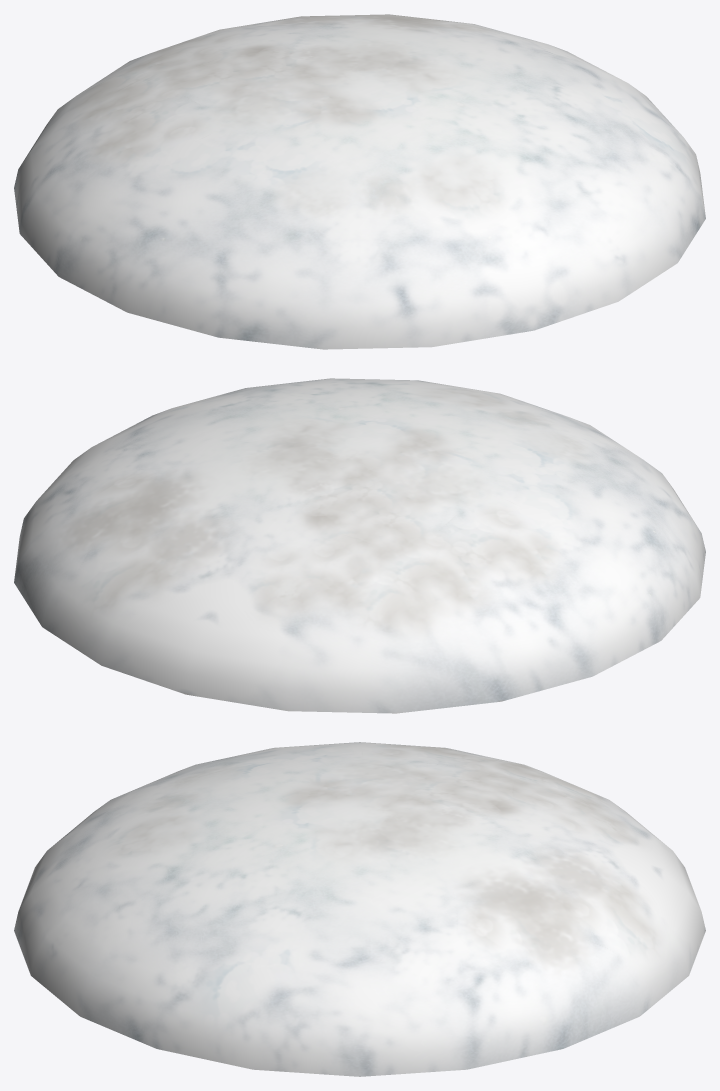
File: Floor_A.fbx
The picture shows the model from 3 angles, top to bottom: view 1: azimuth 30°, elevation 25°; view 2: azimuth 150°, elevation 25°; view 3: azimuth 270°, elevation 25°; orthographic projection.
Visible parts, largest first — view 1: Floor_Floor_A; view 2: Floor_Floor_A; view 3: Floor_Floor_A.
Boxes of the visible parts, left/top/right/bottom form: Floor_Floor_A: left=14, top=14, right=705, bottom=349; Floor_Floor_A: left=14, top=378, right=705, bottom=713; Floor_Floor_A: left=14, top=742, right=705, bottom=1076.
Size of the model in its own units: 1013 by 193 by 1013.
Materials: 1 (1 with a texture image).
